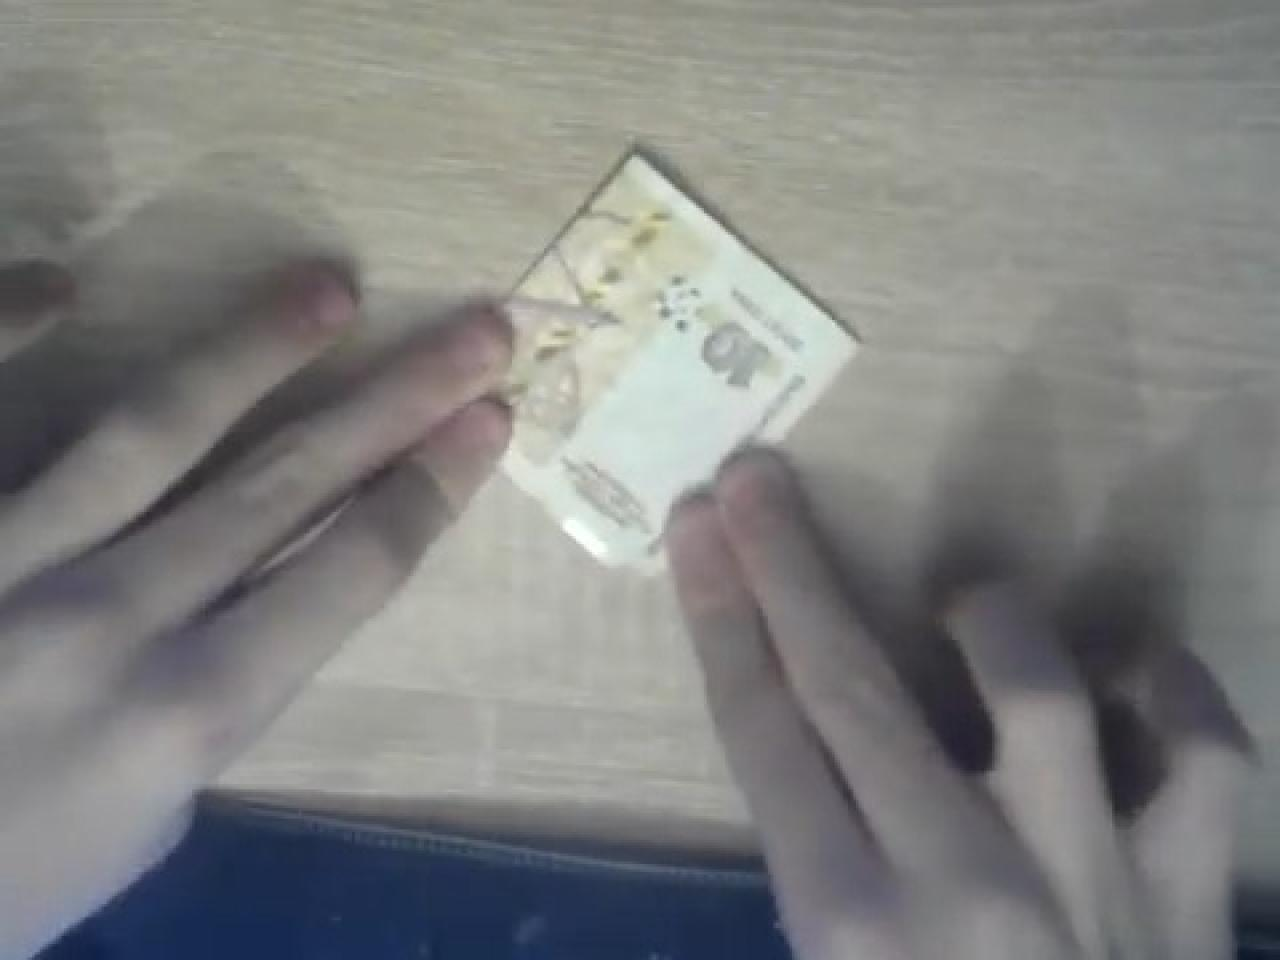10leva: (501, 146, 864, 568)
